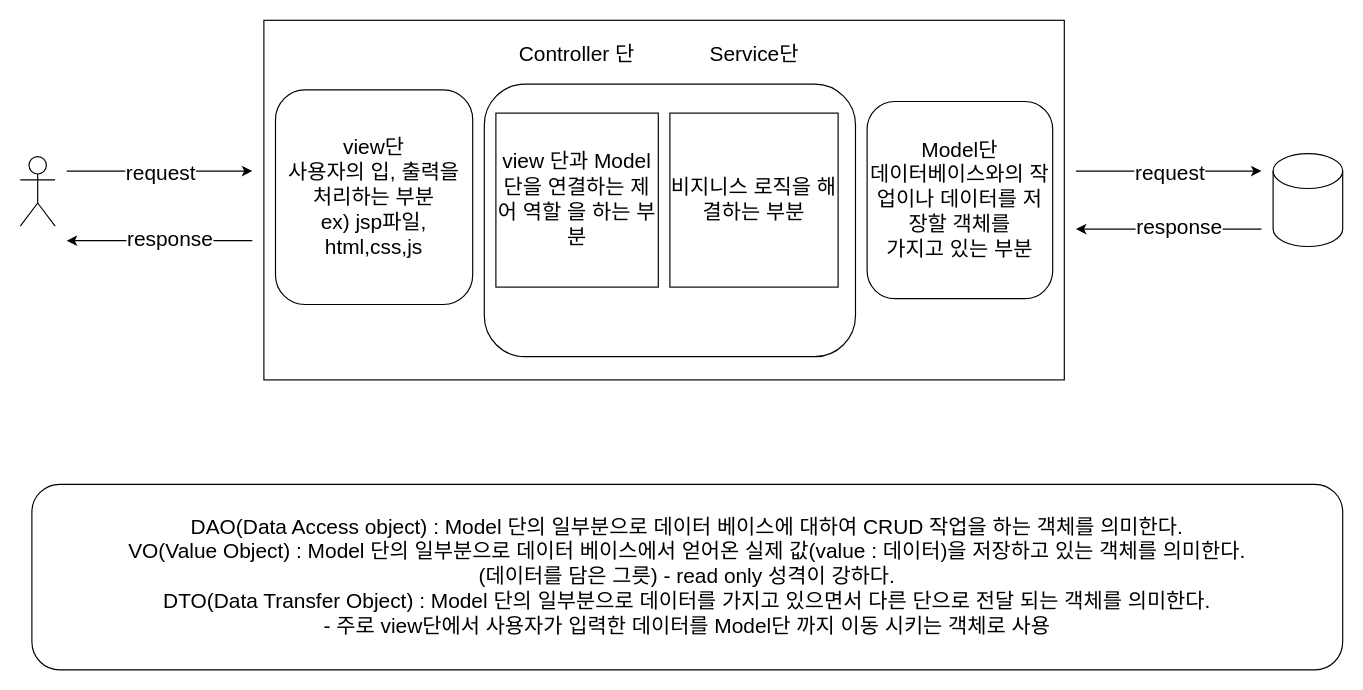
This 1363x690 diagram has some shape labels left out. Here are the shapes that lost their labels. From the top down, the centre of each, then its label:
point (37, 190): Actor
point (1307, 199): DB
